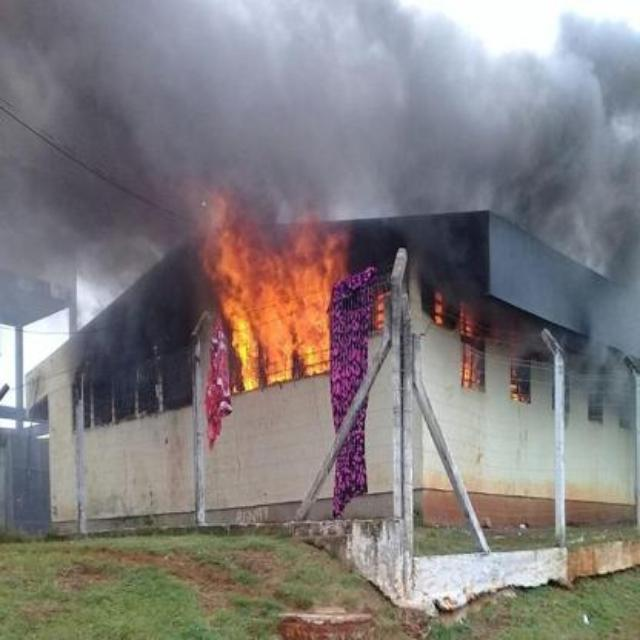Fire: (202, 181, 334, 379), (462, 300, 480, 386), (514, 328, 528, 404), (337, 229, 351, 285), (436, 286, 442, 330), (378, 285, 384, 327)
Smoke: (203, 0, 633, 236), (5, 4, 199, 330), (575, 245, 640, 422)
